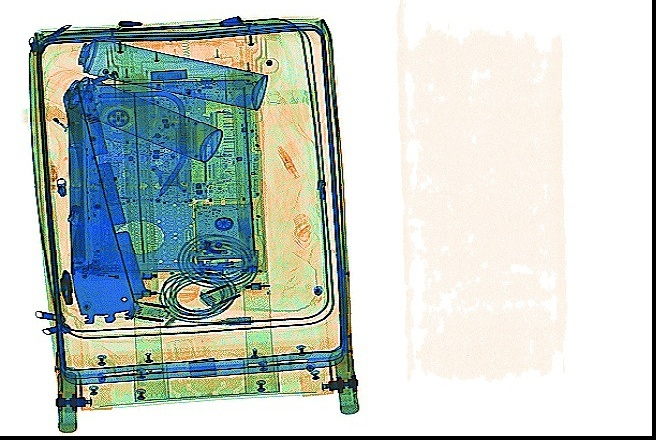lighter: (43, 104, 86, 141), (82, 263, 129, 280)
pressure: (51, 31, 270, 113), (40, 65, 223, 163)
